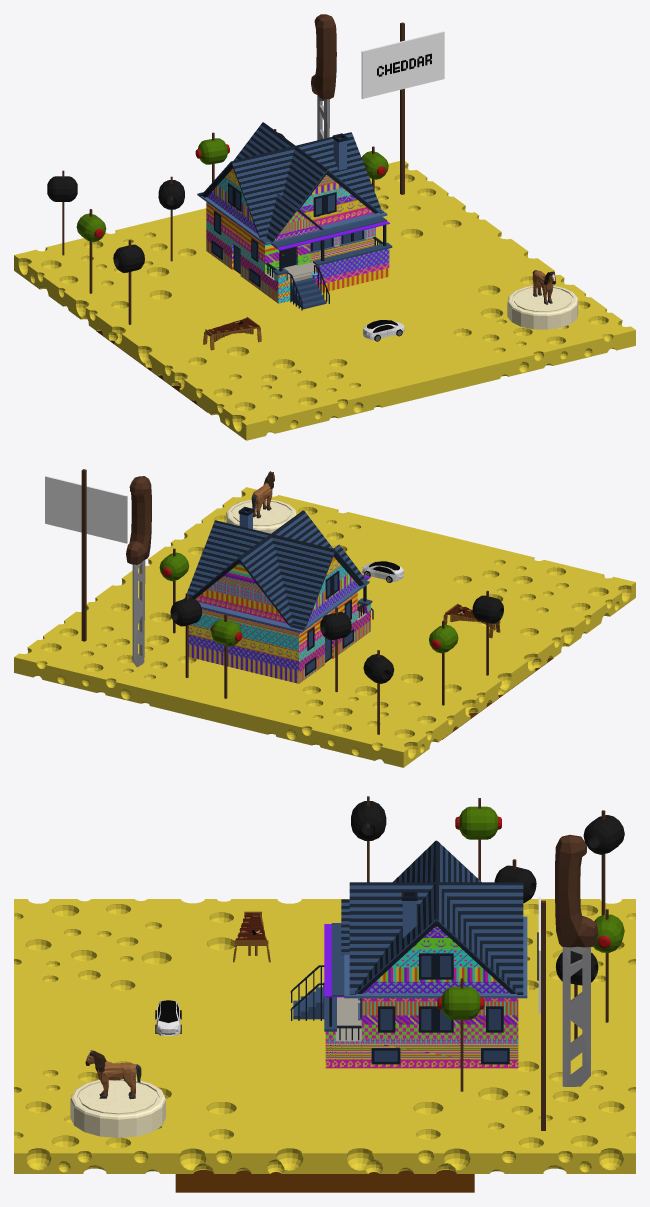
The picture shows the model from 3 angles, top to bottom: view 1: azimuth 30°, elevation 25°; view 2: azimuth 150°, elevation 25°; view 3: azimuth 270°, elevation 25°; orthographic projection. The views are drawn at different scales.
Parts seen in each view (by area): view 1: Cube.022, Cube.676, Cube.023, Cylinder.016, Cube.024, Sphere.017, Sphere.016, Sphere.018, Sphere.020, OBJRANDOM_MARIMBA, Sphere.022, VEHICLES_TESLA (+1 smaller); view 2: Cube.022, Cube.676, Cube.023, Cube.024, Cylinder.016, Sphere.021, Sphere.022, Sphere.020, Sphere.017, Sphere.016, Sphere.018, Sphere.019 (+3 smaller); view 3: Cube.022, Cube.676, Cube.024, UNDERGROUND_ART_PIECE_VAN_GOGH, Cylinder.016, Sphere.019, Sphere.016, Cube.023, Sphere.018, Sphere.017, ANIMAL_CABALLO, Sphere.022 (+4 smaller).
Part boxes in pixels (x1=…): Cube.022: x1=14, y1=161, x2=635, y2=440; Cube.676: x1=197, y1=122, x2=392, y2=310; Cube.023: x1=361, y1=22, x2=444, y2=194; Cylinder.016: x1=507, y1=285, x2=578, y2=329; Cube.024: x1=311, y1=14, x2=336, y2=140; Sphere.017: x1=113, y1=240, x2=144, y2=324; Sphere.016: x1=47, y1=170, x2=77, y2=255; Sphere.018: x1=76, y1=209, x2=106, y2=293; Sphere.020: x1=158, y1=176, x2=184, y2=261; OBJRANDOM_MARIMBA: x1=203, y1=316, x2=261, y2=350; Sphere.022: x1=195, y1=132, x2=229, y2=182; VEHICLES_TESLA: x1=363, y1=320, x2=404, y2=341; Cube.022: x1=14, y1=487, x2=635, y2=767; Cube.676: x1=183, y1=506, x2=373, y2=683; Cube.023: x1=45, y1=469, x2=127, y2=641; Cube.024: x1=126, y1=476, x2=151, y2=667; Cylinder.016: x1=226, y1=499, x2=296, y2=533; Sphere.021: x1=170, y1=593, x2=202, y2=677; Sphere.022: x1=210, y1=614, x2=242, y2=698; Sphere.020: x1=320, y1=607, x2=351, y2=692; Sphere.017: x1=472, y1=590, x2=503, y2=675; Sphere.016: x1=363, y1=650, x2=394, y2=734; Sphere.018: x1=429, y1=620, x2=458, y2=705; Sphere.019: x1=159, y1=548, x2=189, y2=633; Cube.022: x1=14, y1=899, x2=635, y2=1173; Cube.676: x1=290, y1=840, x2=527, y2=1068; Cube.024: x1=555, y1=834, x2=598, y2=1086; UNDERGROUND_ART_PIECE_VAN_GOGH: x1=175, y1=1170, x2=474, y2=1192; Cylinder.016: x1=70, y1=1079, x2=165, y2=1137; Sphere.019: x1=437, y1=978, x2=484, y2=1091; Sphere.016: x1=583, y1=810, x2=624, y2=915; Cube.023: x1=537, y1=897, x2=545, y2=1130; Sphere.018: x1=455, y1=798, x2=501, y2=880; Sphere.017: x1=351, y1=796, x2=386, y2=882; ANIMAL_CABALLO: x1=85, y1=1050, x2=141, y2=1099; Sphere.022: x1=593, y1=909, x2=624, y2=1022.
Bounding box in the file's own units: 3917 × 2132 × 4000.
Materials: 40 (8 with a texture image).
